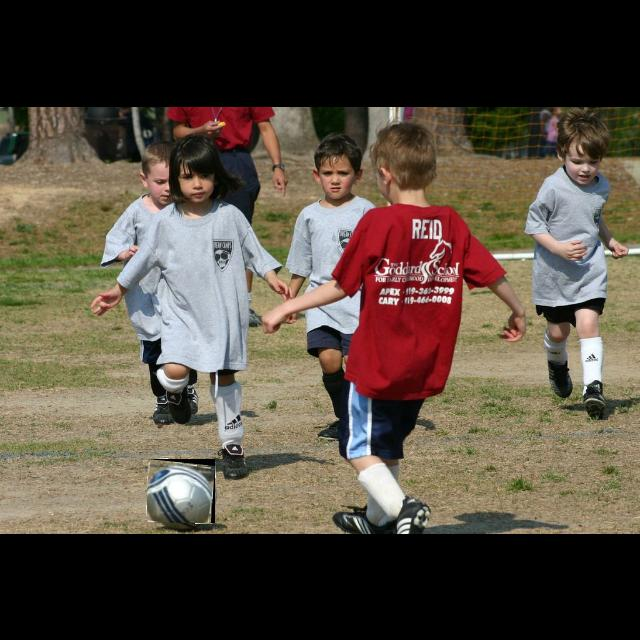Football: (147, 459, 215, 523)
